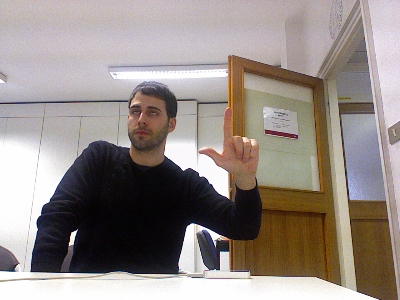枪: (196, 105, 259, 177)
